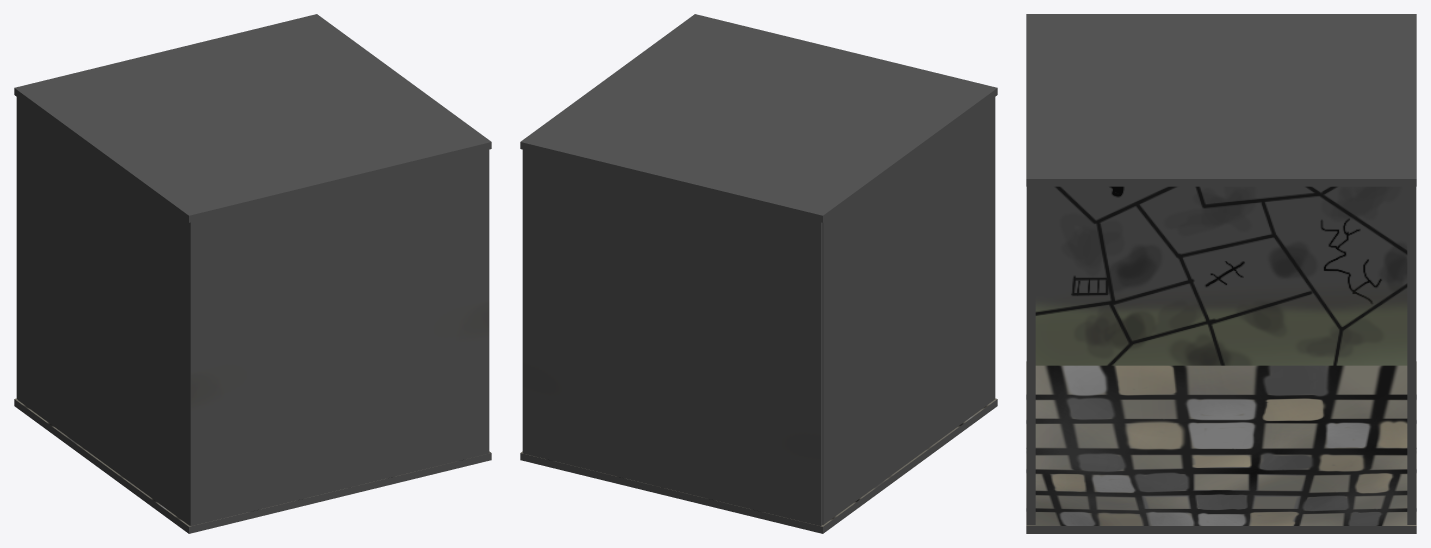
The model's file is Breakroom 1.glb.
3 renders of one model, left to right at view 1: azimuth 30°, elevation 25°; view 2: azimuth 150°, elevation 25°; view 3: azimuth 270°, elevation 25°, orthographic. The views are drawn at different scales.
Visible parts, largest first — view 1: Cube.001, Cube.004, Cube.002, Cube; view 2: Cube.001, Cube.004, Cube.002, Cube; view 3: Cube.004, Cube.002, Cube, Cube.001.
Boxes of the visible parts, <box> form: Cube.001: <box>16,97,489,525</box>; Cube.004: <box>14,14,491,222</box>; Cube.002: <box>17,98,190,525</box>; Cube: <box>14,398,491,533</box>; Cube.001: <box>522,149,822,525</box>; Cube.004: <box>520,14,997,222</box>; Cube.002: <box>822,97,995,524</box>; Cube: <box>520,398,997,533</box>; Cube.004: <box>1026,14,1416,186</box>; Cube.002: <box>1035,186,1407,365</box>; Cube: <box>1026,361,1416,533</box>; Cube.001: <box>1026,186,1416,524</box>.
Size of the model in its own units: 42.26 by 42.45 by 42.26.
Materials: 4 (4 with a texture image).
